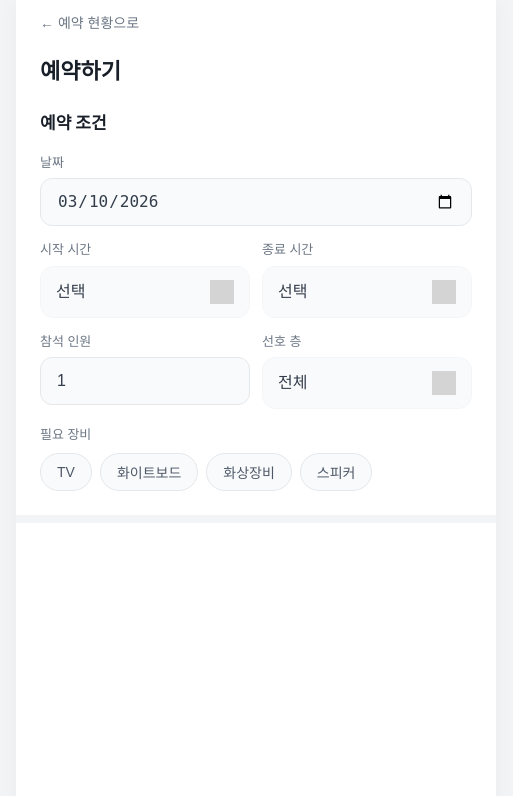
Test case: 예약하기 심화 › 예약 가능 회의실이 층수 → 이름순으로 정렬된다
The width and height of the screenshot is (513, 796).
Expected: the text "예약 조건" is shown, [40,111,107,136]
Select "11:30" in the dropdown named "시작 시간". click: point(145, 292)
box: [40,266,250,318]
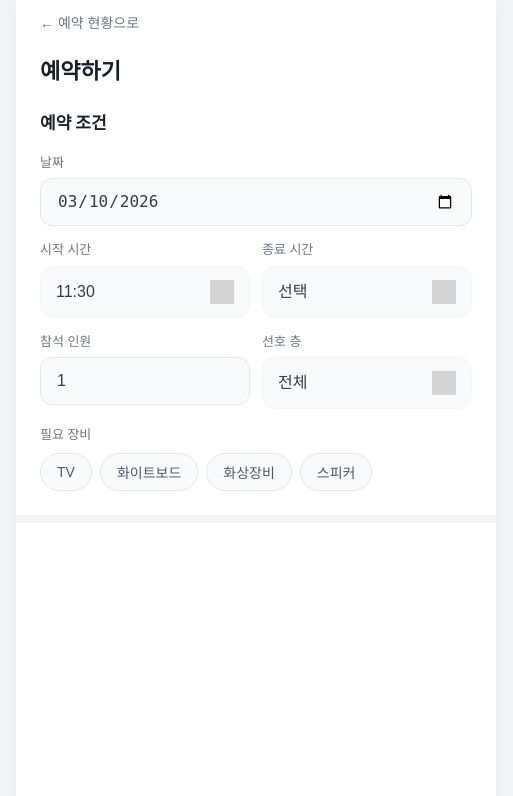
Select "12:30" in the dropdown named "종료 시간". click: point(367, 292)
box: [262,266,472,318]
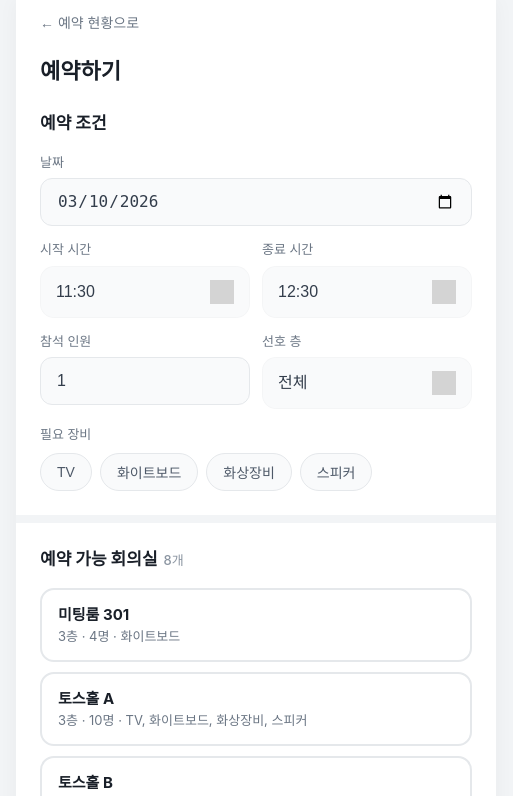
Expected: the text "예약 가능 회의실" is shown, [40,546,158,572]
